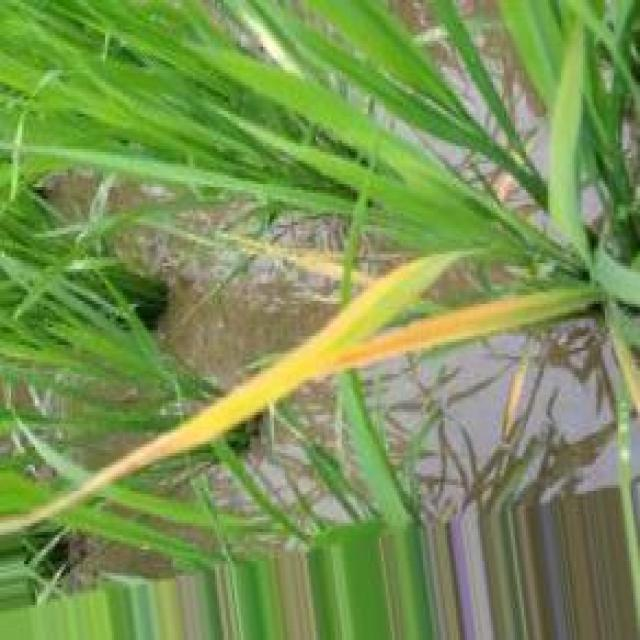Rice Tungro: (0, 253, 470, 534), (335, 287, 598, 371)
